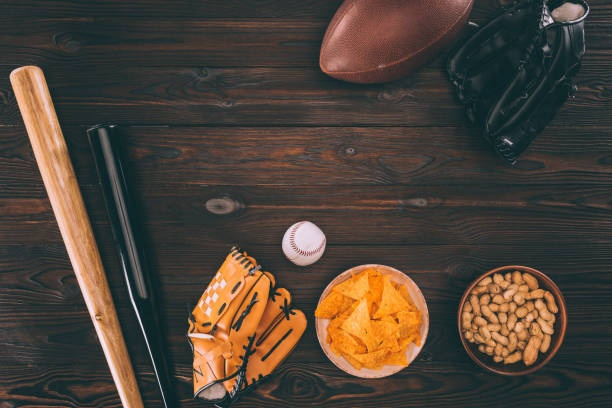bita: (3, 61, 151, 408)
